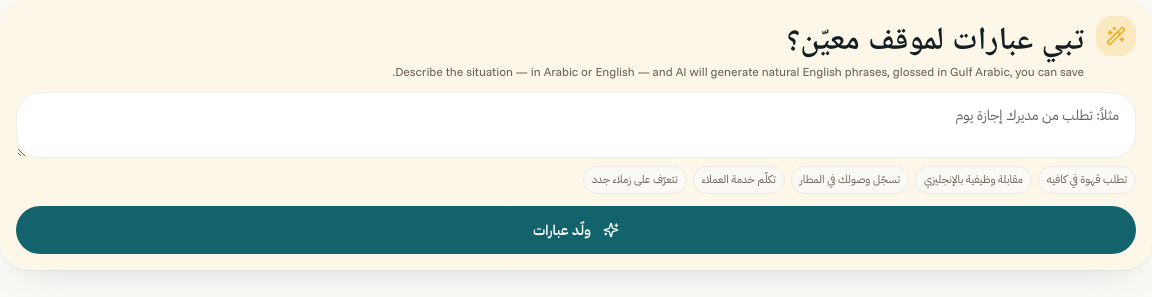
asking for phrases › offers situations to start from
The width and height of the screenshot is (1152, 297).
Click the button "مقابلة وظيفية بالإنجليزي".
click(973, 180)  # box [915, 166, 1032, 194]
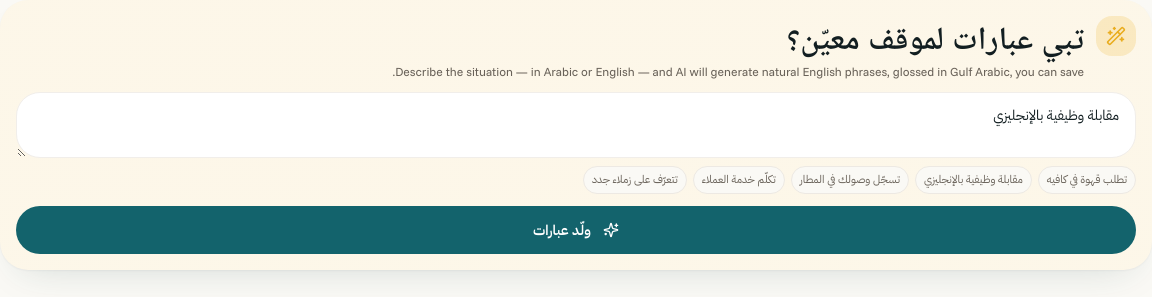
Expected: the text box with placeholder "مثلاً: تطلب من مديرك إجازة يوم" holds "مقابلة وظيفية بالإنجليزي", [16, 92, 1136, 158]
